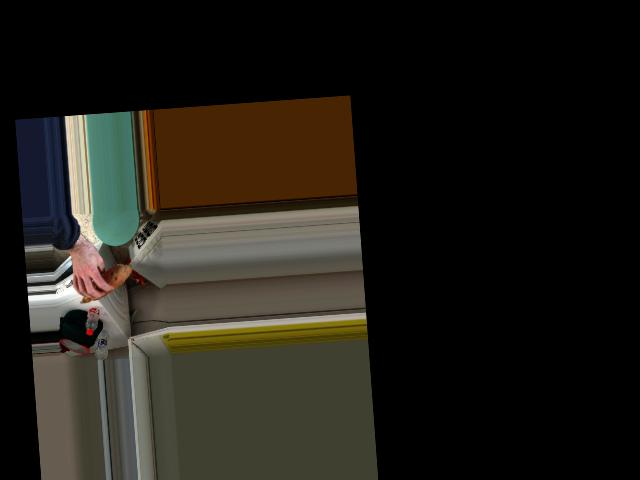sweet_potato: (75, 262, 131, 301)
